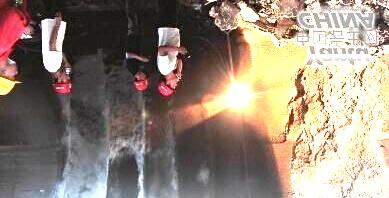helmet: (1, 61, 24, 96), (50, 70, 73, 96), (156, 73, 180, 97), (133, 70, 149, 92)
